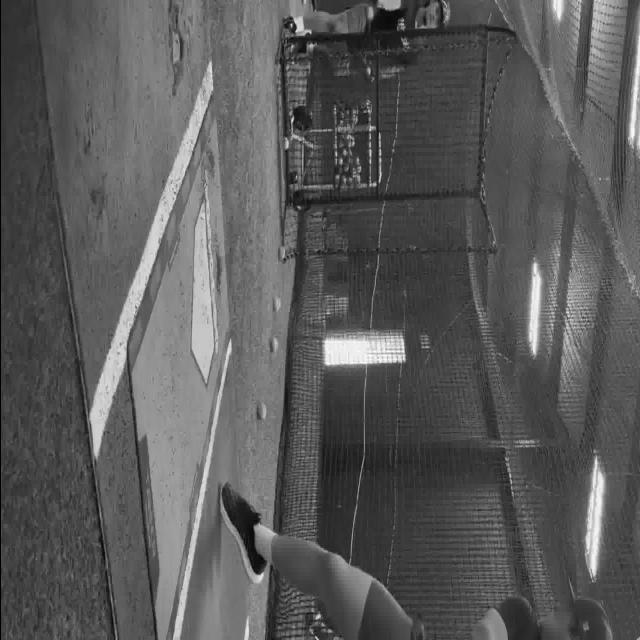shoe: (219, 482, 274, 582)
